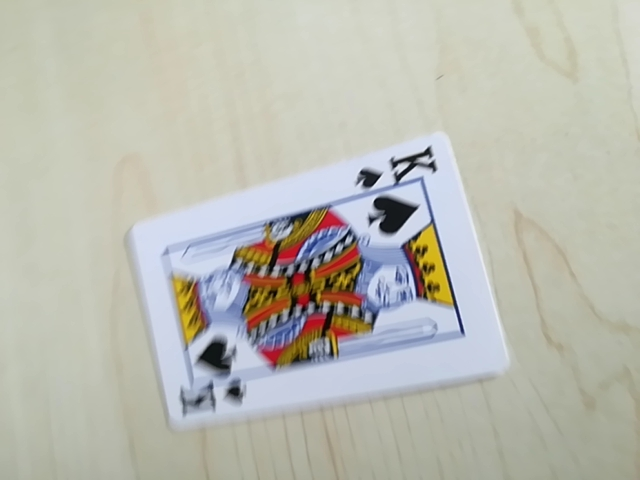ht k: (354, 147, 443, 192), (175, 372, 247, 425)
